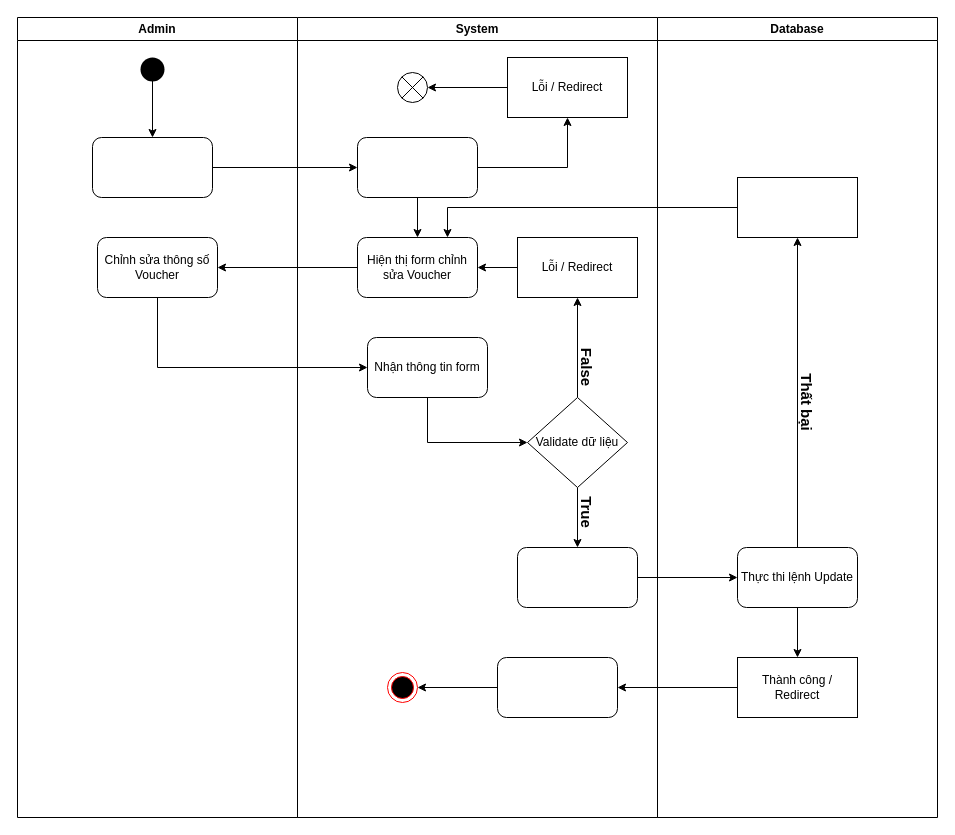
Image size: 955x835. Some labels were removed from this diagram. The centre of each missing label's shape, as x and y in pixels:
Cập nhật voucher: point (577, 577)
Lỗi DB khi cập nhật: point (797, 207)
Nhấn "Chỉnh sửa voucher": point (152, 167)
Nhận IDVoucher và truy vấn DB: point (417, 167)
Quay lại trang quản lý voucher: point (557, 687)
